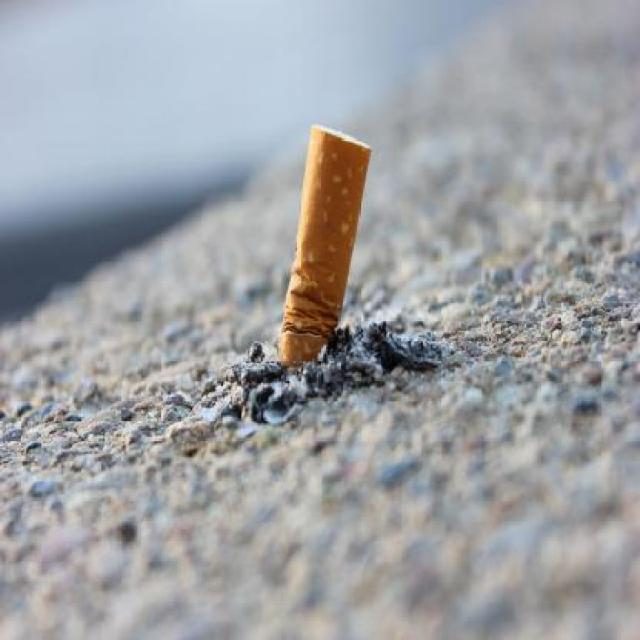cigarette: (272, 105, 399, 381)
